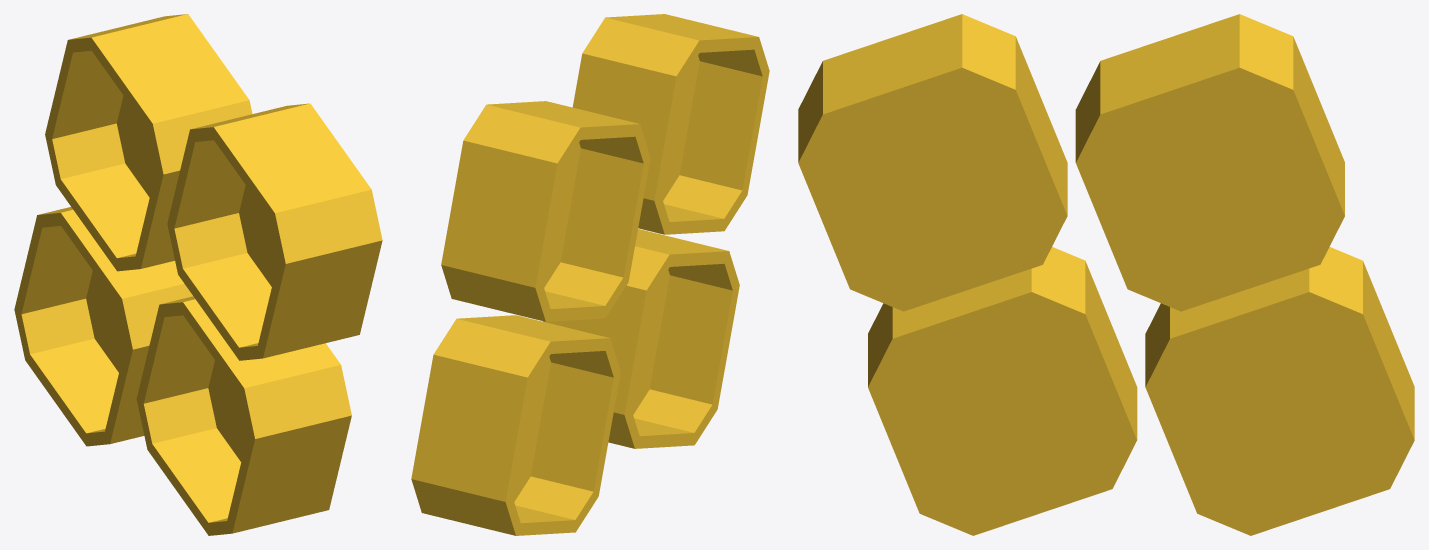
File: Shelf_19.fbx
3 renders of one model, left to right at view 1: azimuth 30°, elevation 25°; view 2: azimuth 150°, elevation 25°; view 3: azimuth 270°, elevation 25°, orthographic. The views are drawn at different scales.
Visible parts, largest first — view 1: Shelf_19; view 2: Shelf_19; view 3: Shelf_19.
Part boxes in pixels (x1,y1,x2,y2): Shelf_19: (14,14,382,535); Shelf_19: (411,14,769,535); Shelf_19: (798,14,1414,535).
Bounding box in the file's own units: 0.1328 × 0.5406 × 0.6448.
